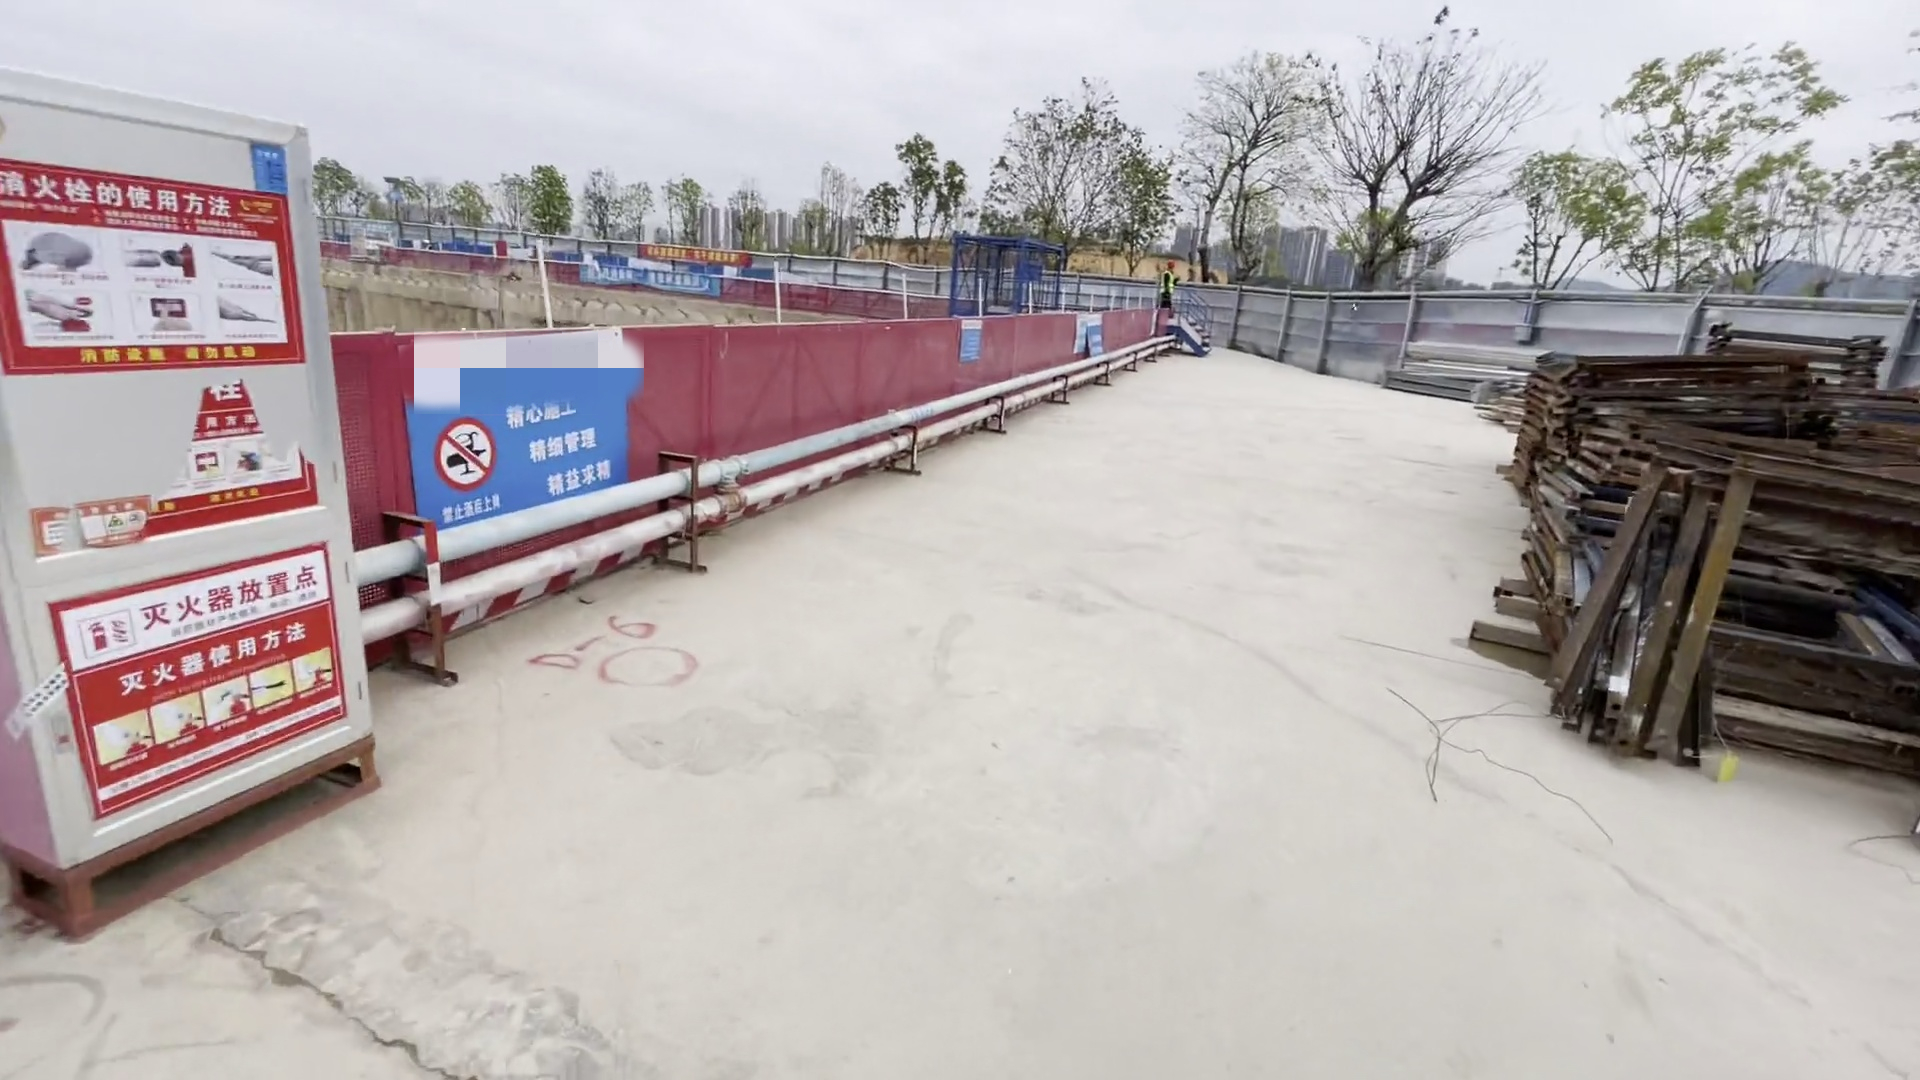fence: (345, 308, 1160, 558)
helmet: (1162, 254, 1179, 273)
person: (1152, 257, 1184, 311)
slogan: (497, 395, 629, 492), (594, 248, 746, 292)
vest: (1162, 273, 1171, 292)
